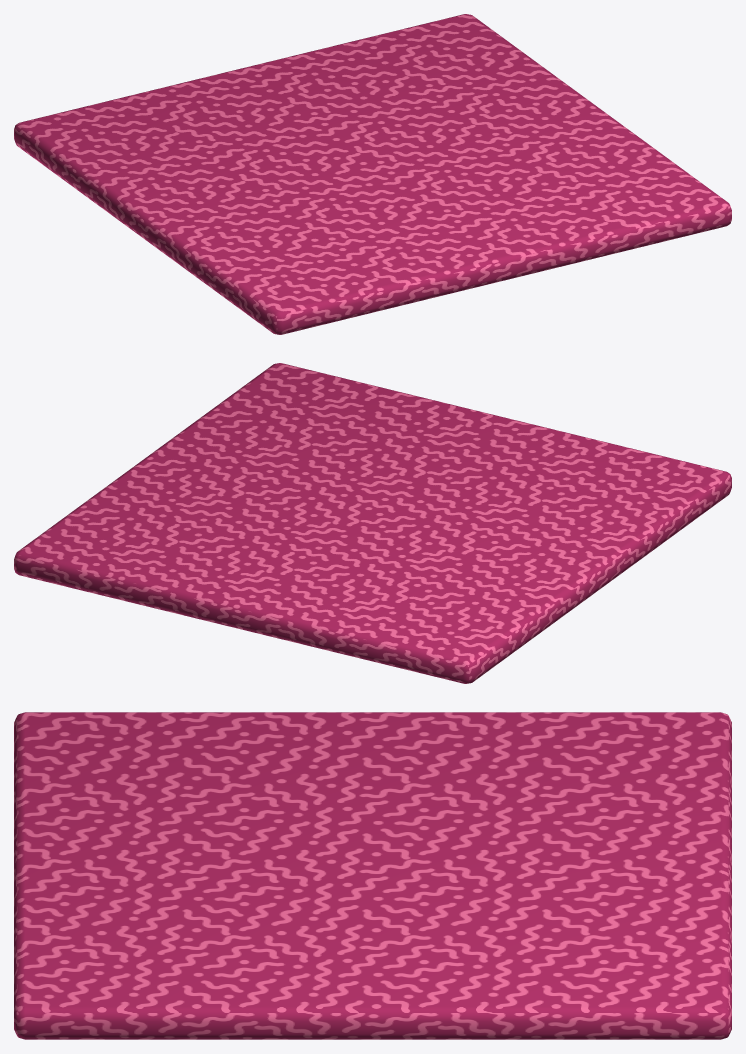
Rendered from floor.fbx.
The picture shows the model from 3 angles, top to bottom: view 1: azimuth 30°, elevation 25°; view 2: azimuth 150°, elevation 25°; view 3: azimuth 270°, elevation 25°; orthographic projection. The views are drawn at different scales.
Parts seen in each view (by area): view 1: Cube; view 2: Cube; view 3: Cube.
Boxes of the visible parts, left/top/right/bottom form: Cube: left=14, top=14, right=731, bottom=334; Cube: left=14, top=363, right=731, bottom=683; Cube: left=14, top=712, right=731, bottom=1039.
Bounding box in the file's own units: 2000 × 100 × 2000.
